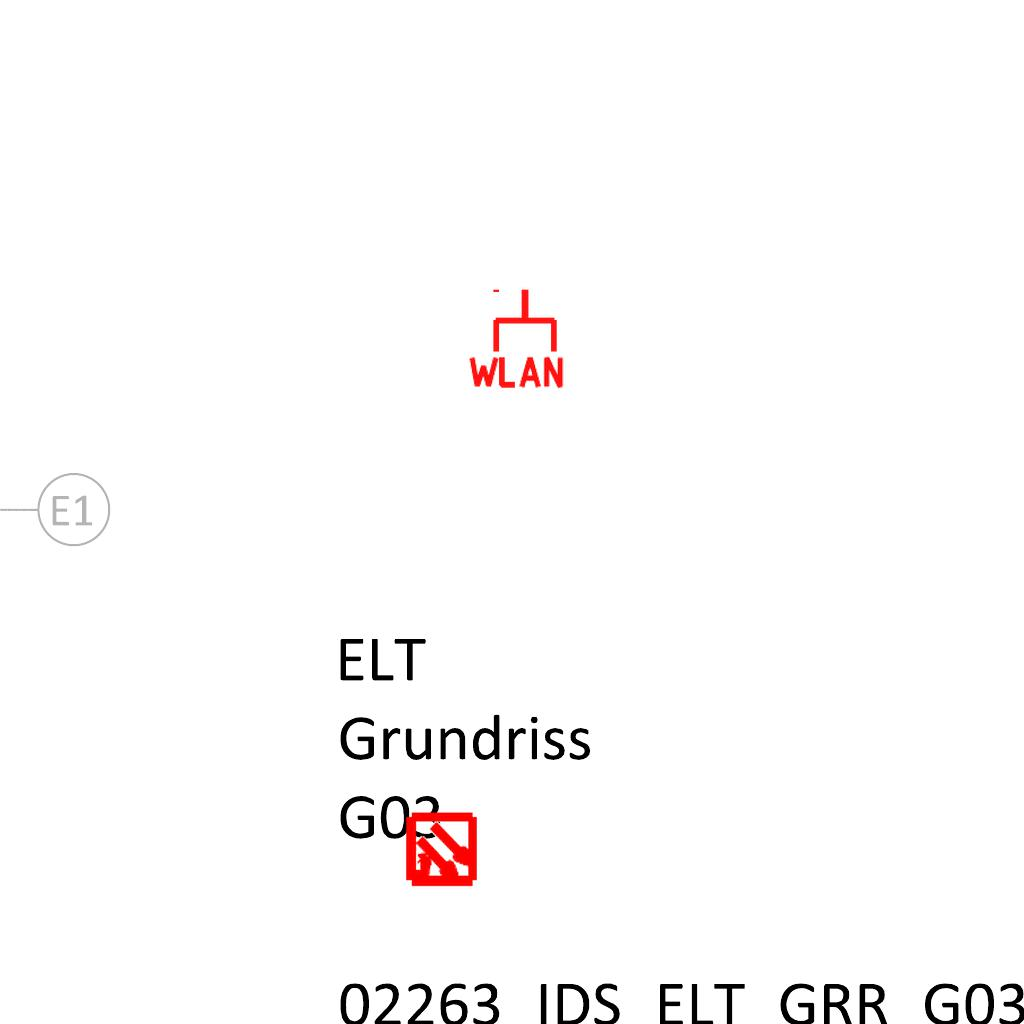OT_Multisensormelder_(Kombination_RMO_WMD): (385, 795, 498, 908)
WLAN: (464, 285, 568, 390)
